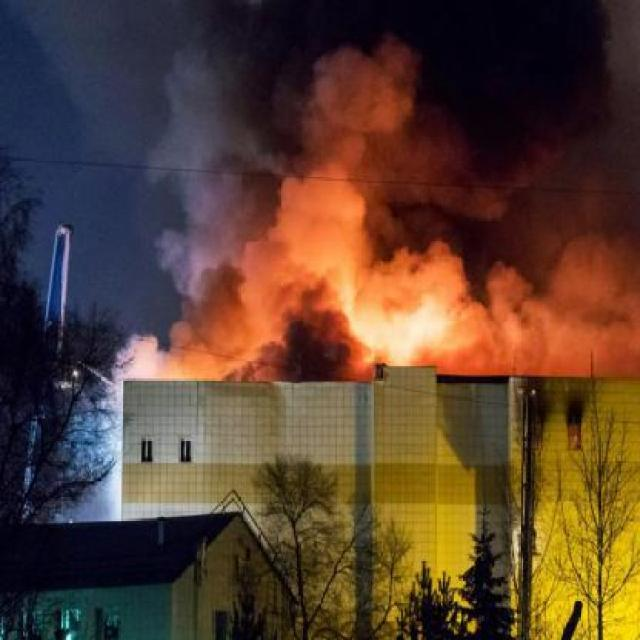Fire: (327, 253, 455, 373), (380, 314, 440, 346), (349, 310, 374, 342)
